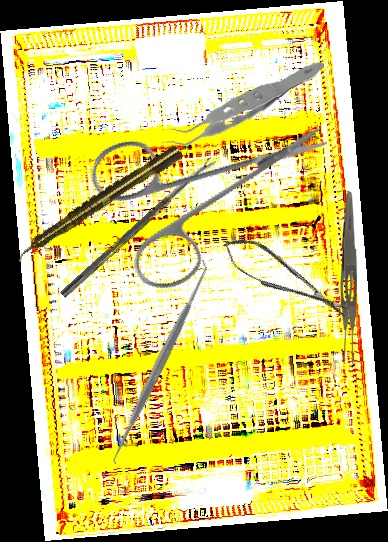Dressing Forceps: (337, 190, 359, 366)
Handpiece: (11, 142, 185, 265)
Iris Scissors: (60, 57, 332, 327)
Micro Scissor: (216, 227, 355, 331)
Spatula Surgical: (100, 257, 220, 468)
Surgical Spoon: (60, 156, 217, 299)
Tissue Forceps: (157, 51, 325, 155)
